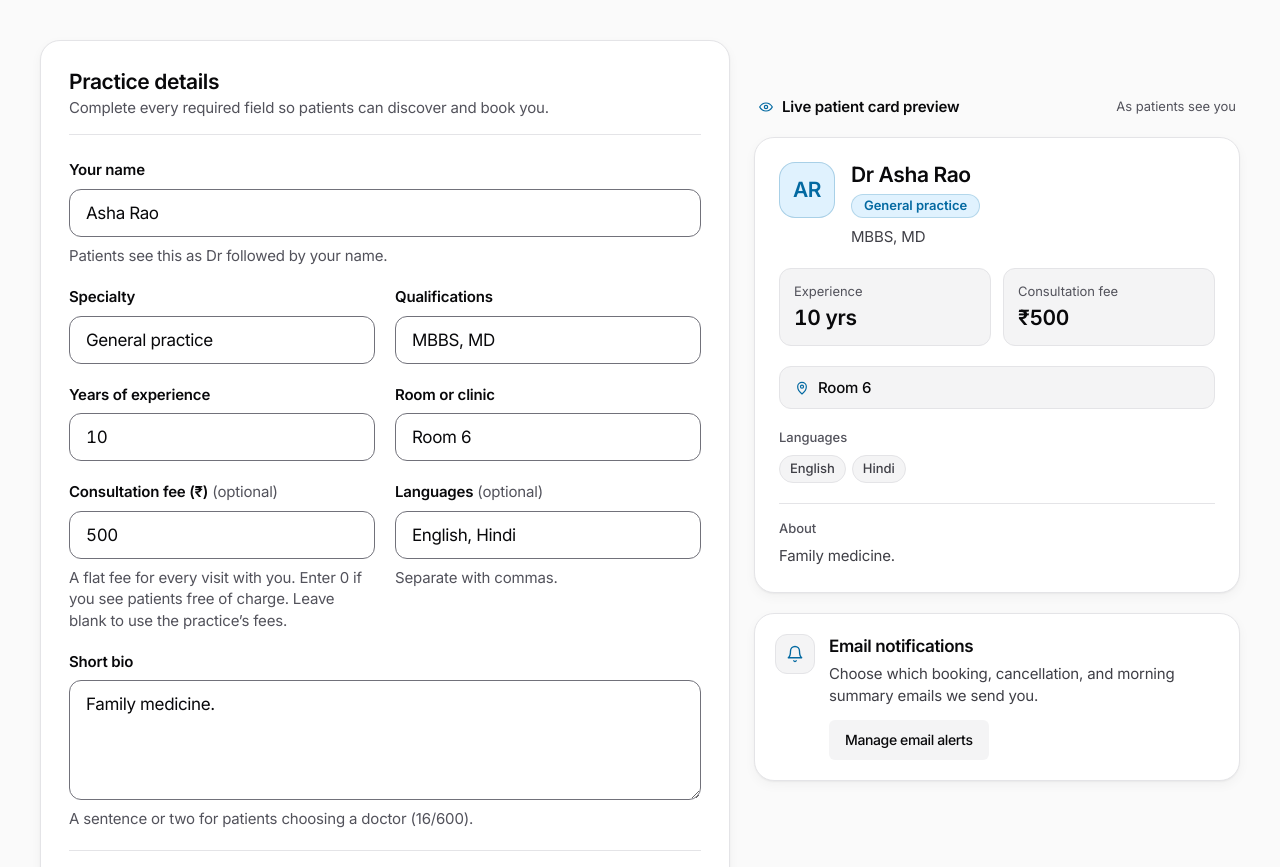
Scenario: Doctor Dashboard Redesign › DoctorProfileWorkspace updates live patient card preview as fields change
The width and height of the screenshot is (1280, 867).
Type "Suite 12" into the field labelled "Room or clinic" at (548, 437), box [395,413,701,461]
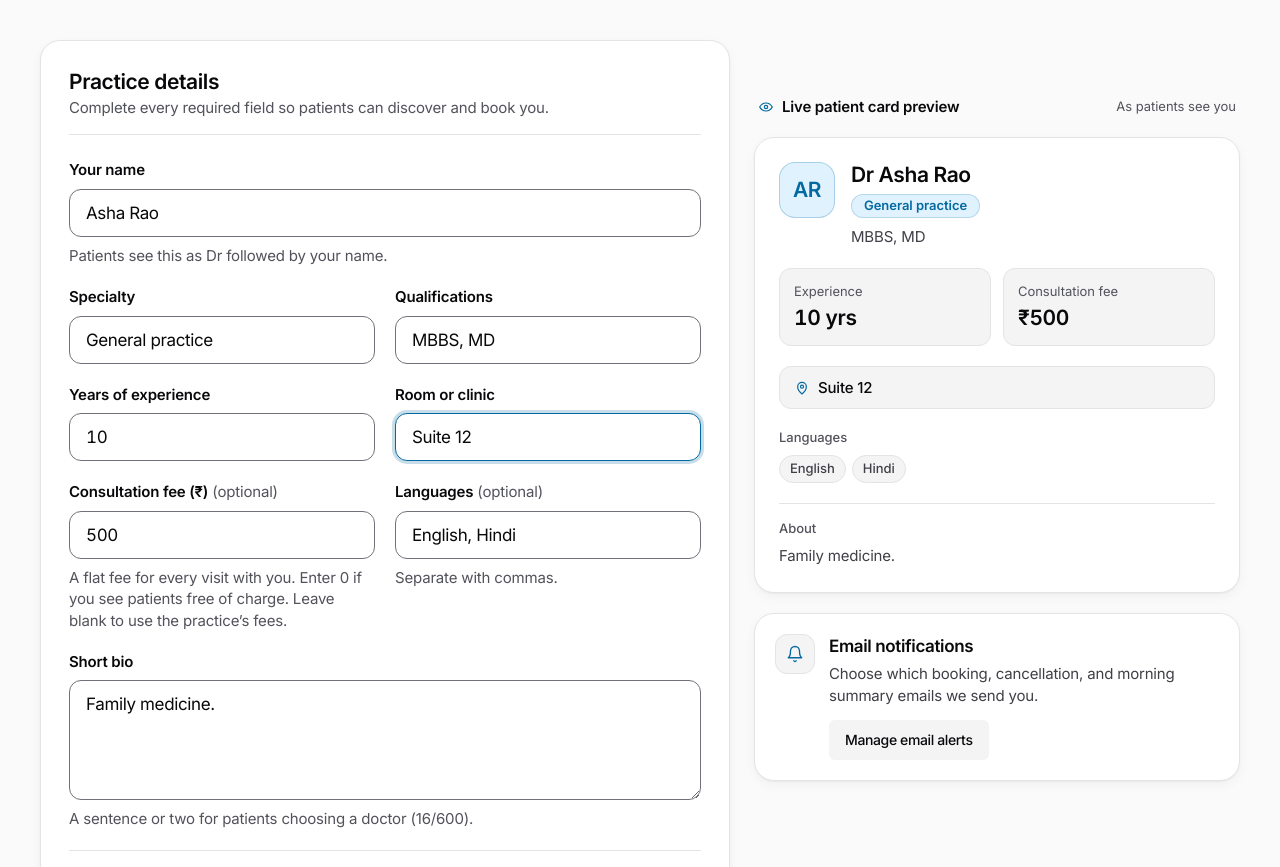
Check: the text "Suite 12" is shown, box [818,377,872,398]
